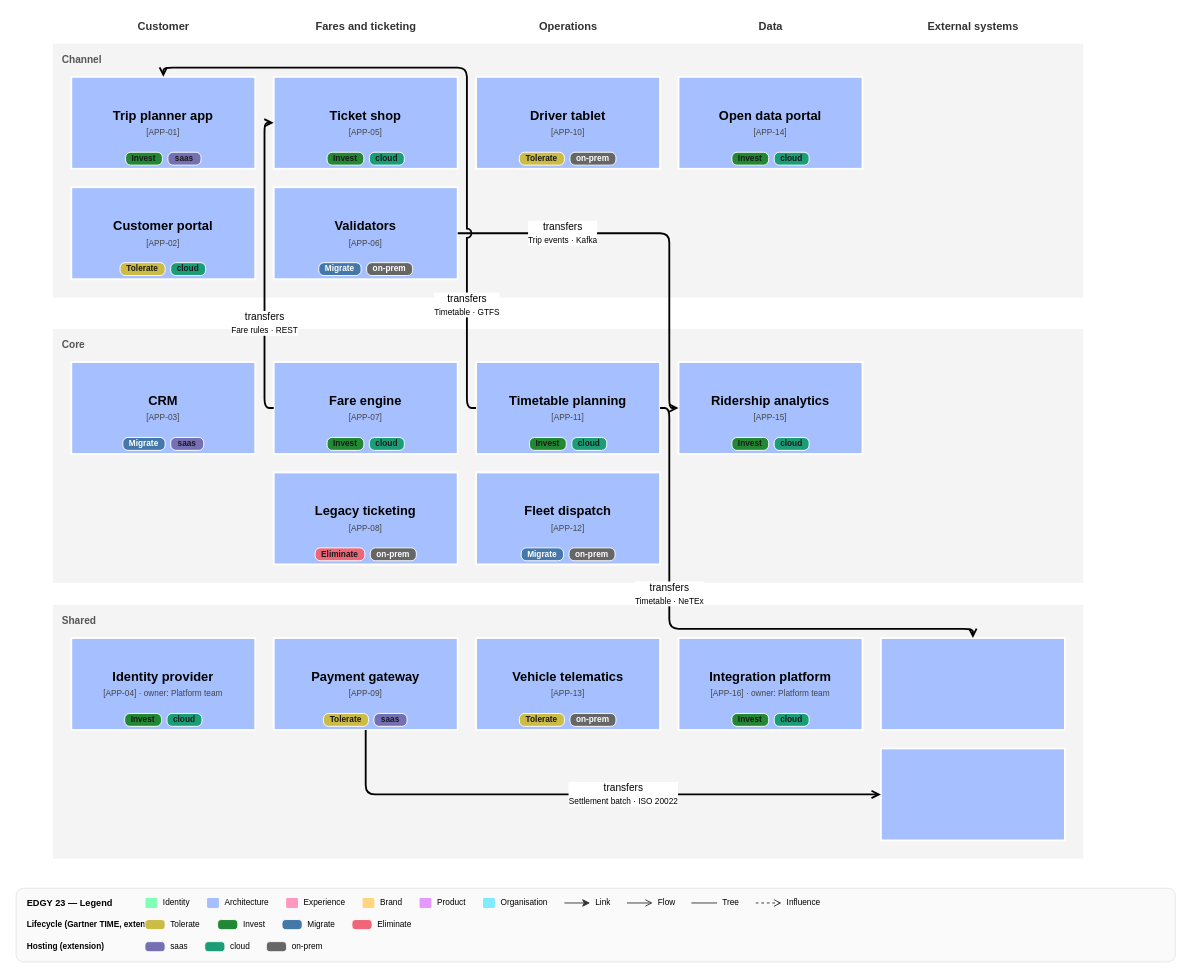
This 1191x978 diagram has some shape labels left out. Here are the shapes that lost their labels. From the top down, the centre of each, then its label:
At point 972,683: "National timetable registry [EXT-01] external".
At point 972,794: "Bank [EXT-02] external".
